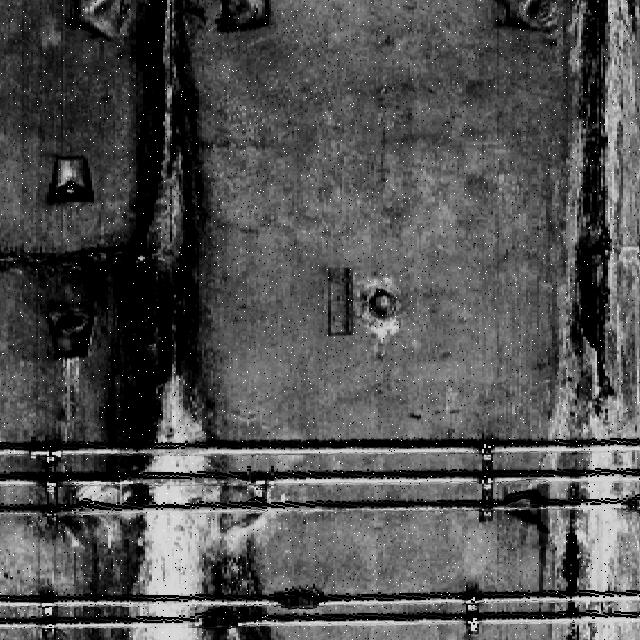leakage: (90, 3, 265, 639), (539, 0, 640, 636)
